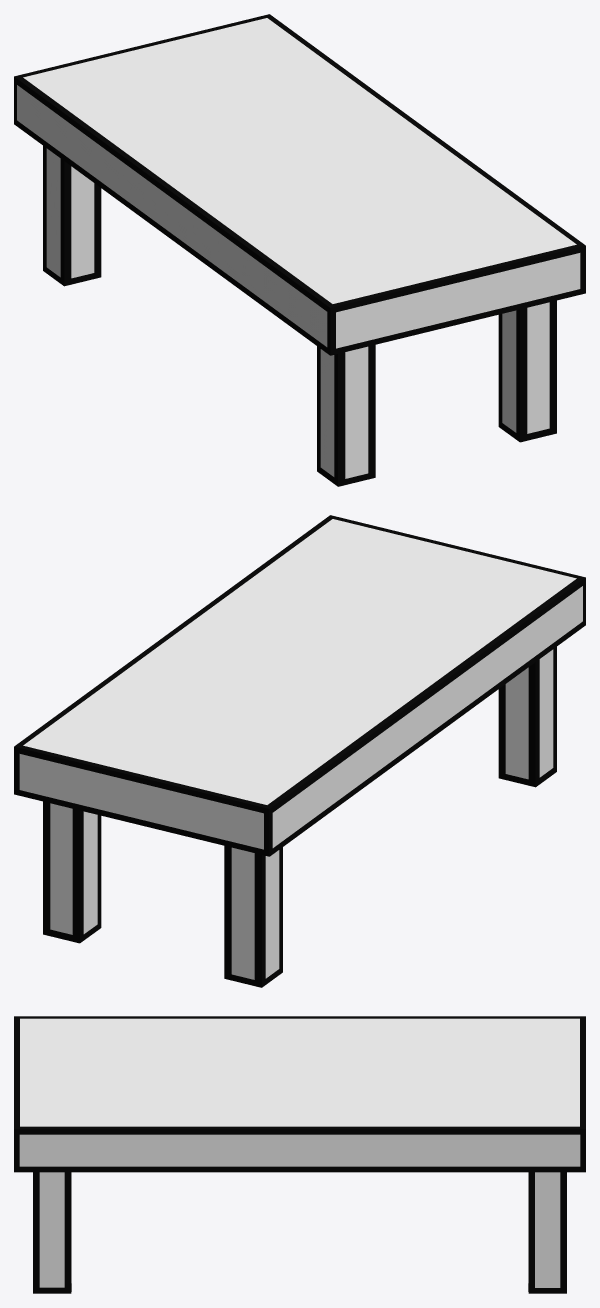
File: desk.fbx
3 views of the same model, one above another, from view 1: azimuth 30°, elevation 25°; view 2: azimuth 150°, elevation 25°; view 3: azimuth 270°, elevation 25° (orthographic). The views are drawn at different scales.
Visible parts, largest first — view 1: Cube; view 2: Cube; view 3: Cube.
Part boxes in pixels (x1,y1,x2,y2): Cube: [14, 14, 585, 486]; Cube: [14, 515, 585, 987]; Cube: [14, 1016, 585, 1293].
Size of the model in its own units: 280 by 200 by 600.
